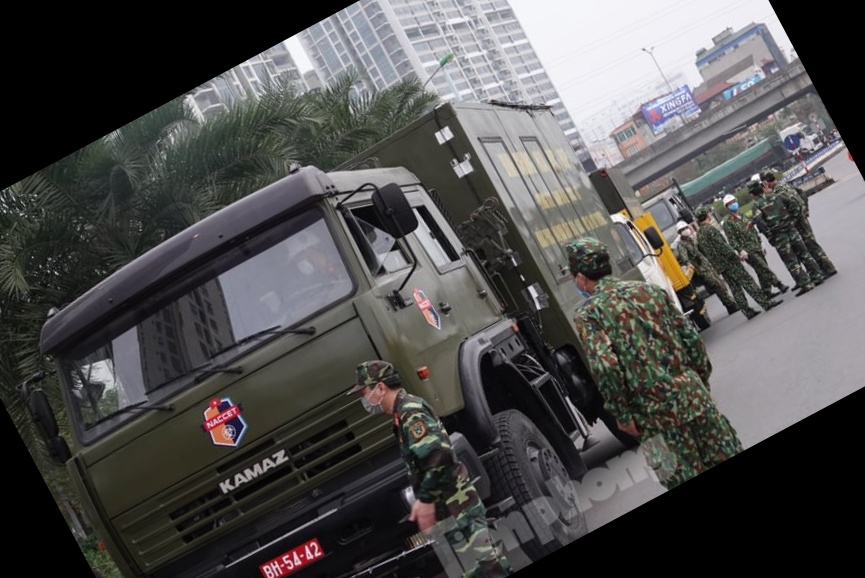plate: (246, 534, 324, 578)
